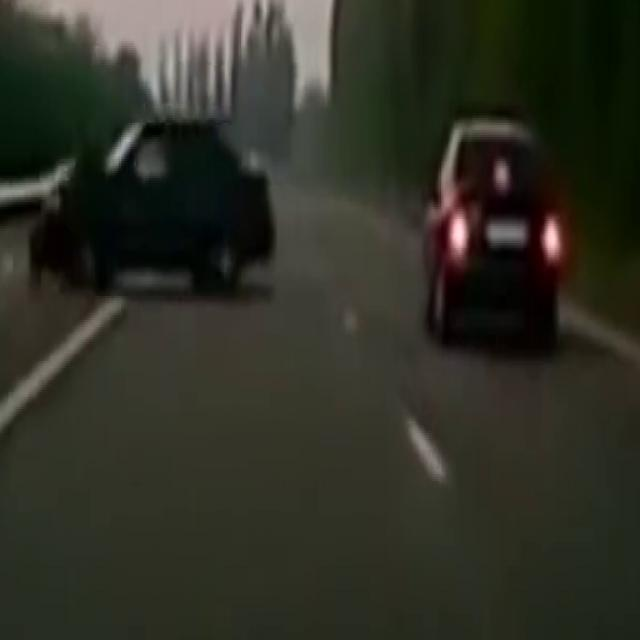accident: (24, 90, 271, 312)
